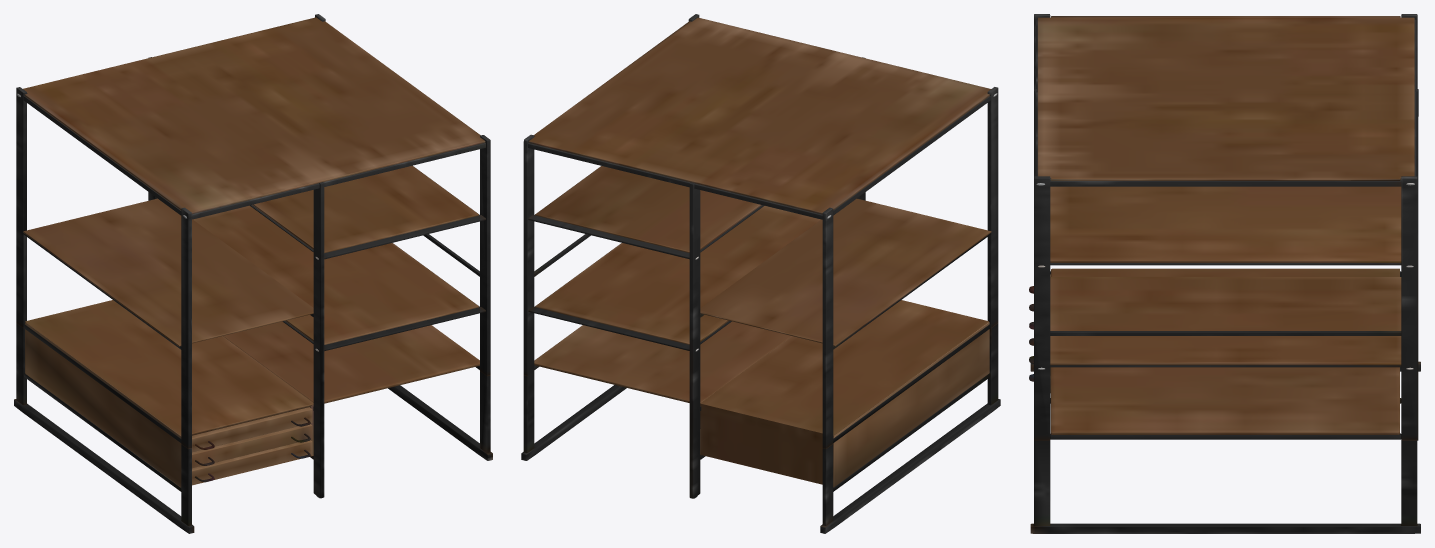
The model's file is ph-steel-frame-shelves-03.glb.
3 renders of one model, left to right at view 1: azimuth 30°, elevation 25°; view 2: azimuth 150°, elevation 25°; view 3: azimuth 270°, elevation 25°, orthographic. The views are drawn at different scales.
Visible parts, largest first — view 1: steel_frame_shelves_03; view 2: steel_frame_shelves_03; view 3: steel_frame_shelves_03.
Part boxes in pixels (box(x1,y1,x2,y2)): steel_frame_shelves_03: box(14, 14, 492, 533); steel_frame_shelves_03: box(521, 14, 1000, 533); steel_frame_shelves_03: box(1029, 14, 1420, 533).
Bounding box in the file's own units: 1 × 1 × 1.
Materials: 2 (2 with a texture image).
